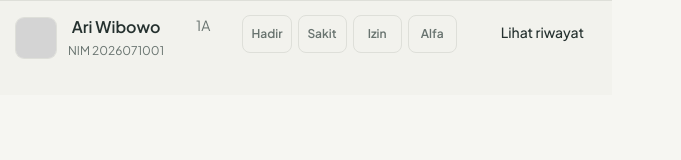
Test: production Attendance update path › Attendance create remains online-only
The image size is (681, 160).
Click the button with aria-label "Hadir — Ari Wibowo" at point(267, 34), box [242, 15, 292, 53]
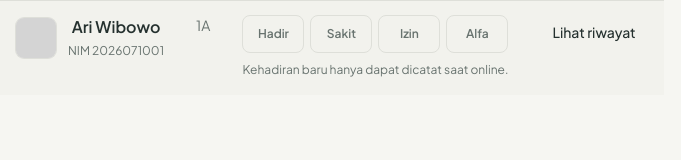
expect the text "Kehadiran baru hanya dapat dicatat saat online." is shown: met, box [242, 61, 508, 81]
